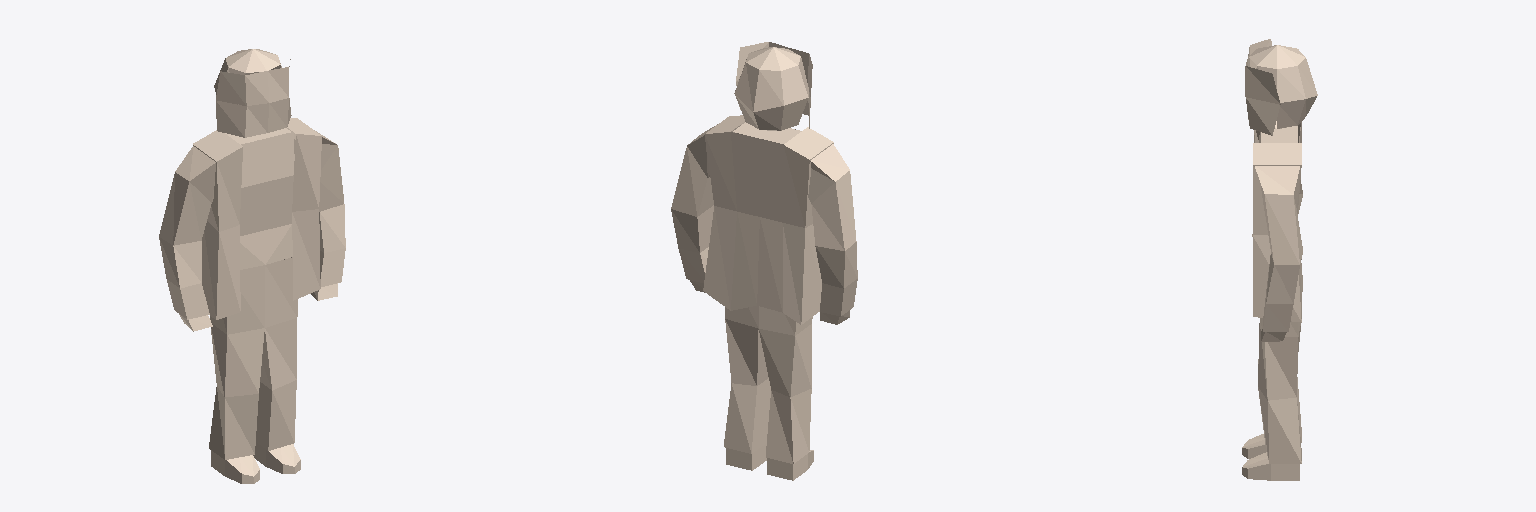
3 renders of one model, left to right at view 1: azimuth 30°, elevation 25°; view 2: azimuth 150°, elevation 25°; view 3: azimuth 270°, elevation 25°, orthographic.
Parts seen in each view (by area): view 1: Boots.2; view 2: Boots.2; view 3: Boots.2.
Boxes of the visible parts, box(x1,y1,x2,y2) form: Boots.2: box(159, 49, 345, 483); Boots.2: box(671, 42, 857, 480); Boots.2: box(1242, 39, 1317, 480).
Size of the model in its own units: 74.27 by 171 by 28.04.